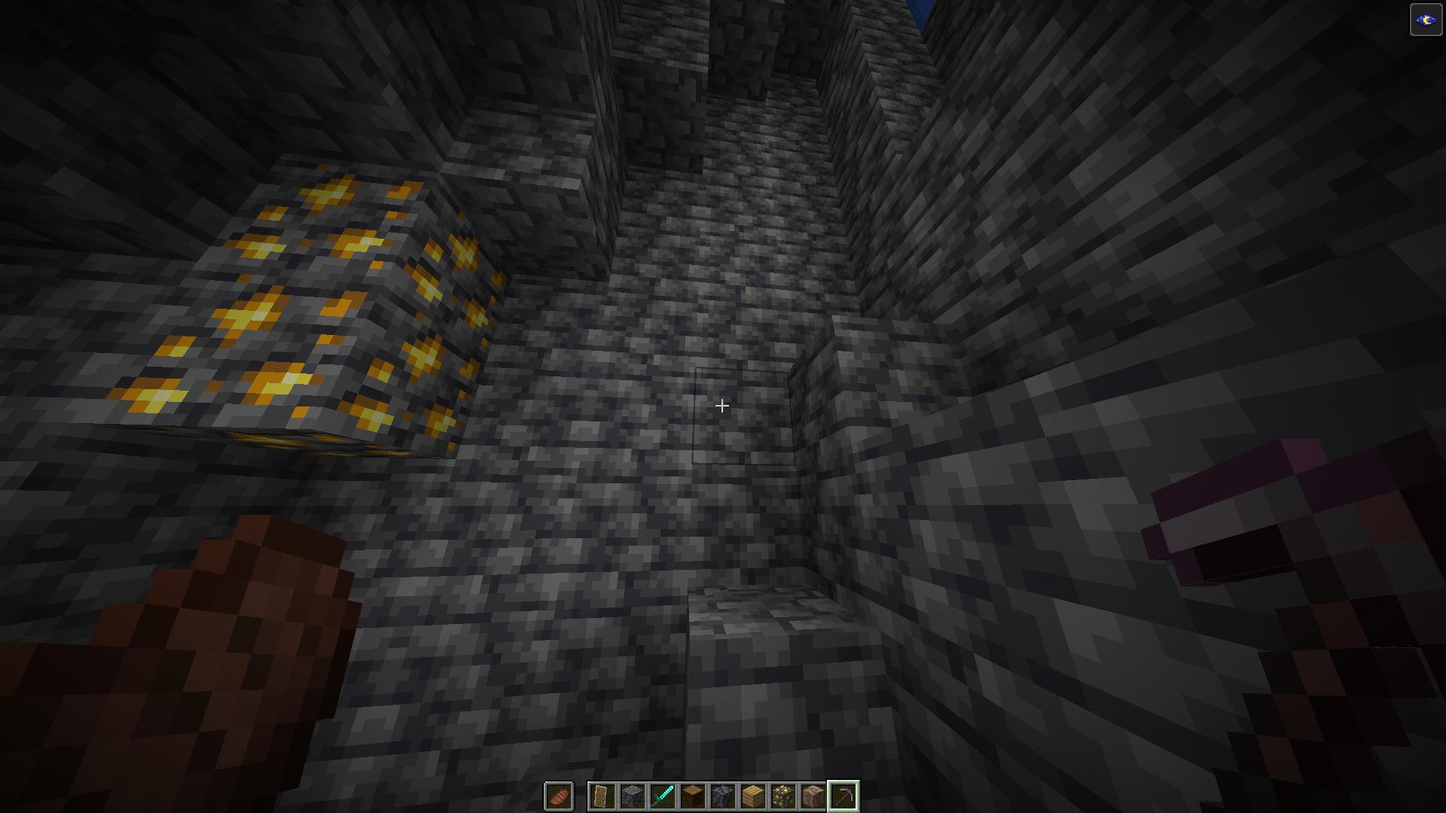gold ore: (117, 287, 499, 468), (178, 170, 519, 294)
